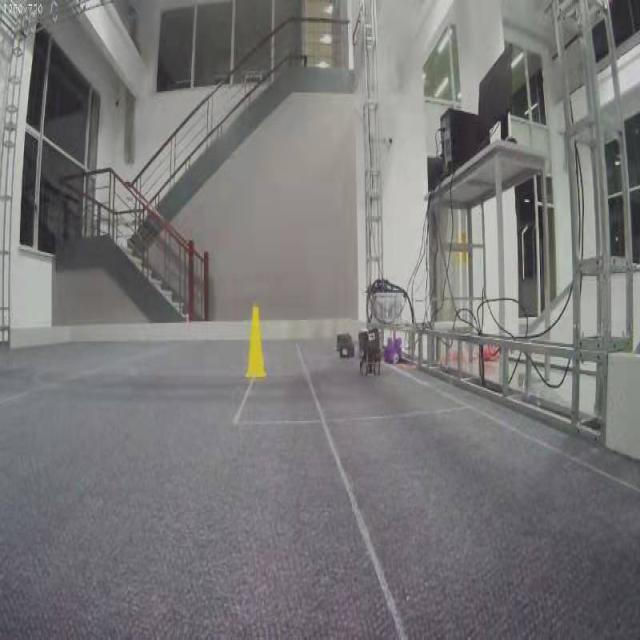cone: (244, 304, 266, 376)
